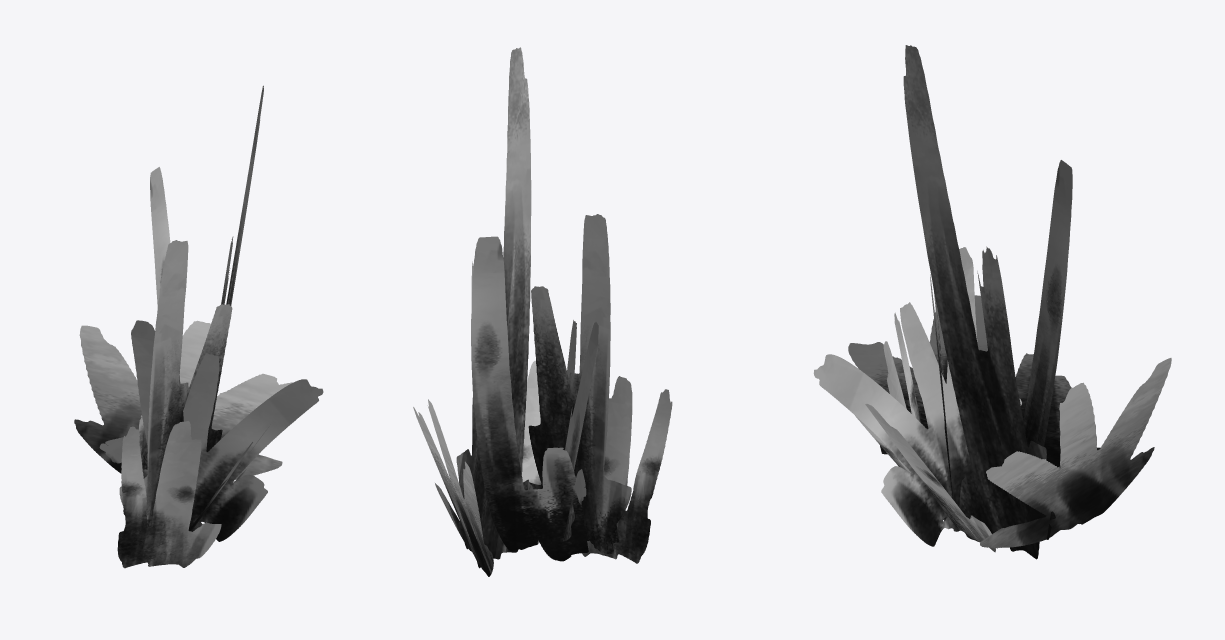
File: Grass.fbx
3 renders of one model, left to right at view 1: azimuth 30°, elevation 25°; view 2: azimuth 150°, elevation 25°; view 3: azimuth 270°, elevation 25°, orthographic. The views are drawn at different scales.
Parts seen in each view (by area): view 1: Grass.Mesh; view 2: Grass.Mesh; view 3: Grass.Mesh.
Part boxes in pixels (x1=…): Grass.Mesh: x1=74, y1=85, x2=323, y2=568; Grass.Mesh: x1=413, y1=47, x2=672, y2=576; Grass.Mesh: x1=813, y1=45, x2=1171, y2=559.
Size of the model in its own units: 0.99 by 1.66 by 1.06.
